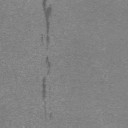red iron: (42, 0, 52, 44), (46, 56, 51, 74), (42, 77, 46, 99), (50, 113, 52, 118)
